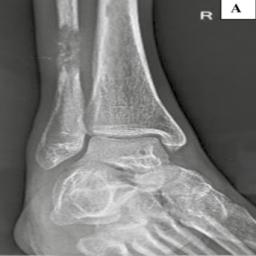cancer: (53, 26, 90, 76)
